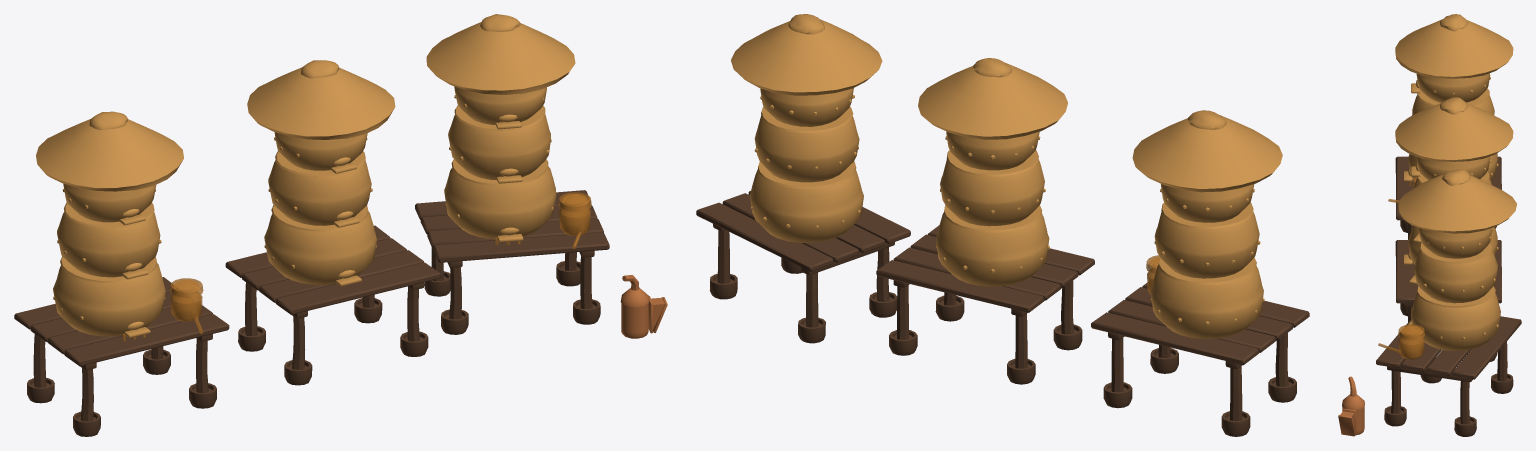
File: nomad_work_yard_decor.fbx
3 renders of one model, left to right at view 1: azimuth 30°, elevation 25°; view 2: azimuth 150°, elevation 25°; view 3: azimuth 270°, elevation 25°, orthographic. The views are drawn at different scales.
Visible parts, largest first — view 1: C__InsectHive__02, C__InsectHive__03, C__InsectHive__01; view 2: C__InsectHive__03, C__InsectHive__01, C__InsectHive__02; view 3: C__InsectHive__02, C__InsectHive__03, C__InsectHive__01.
Part boxes in pixels (x1,y1,x2,y2): C__InsectHive__02: [415, 14, 667, 338]; C__InsectHive__03: [14, 111, 229, 436]; C__InsectHive__01: [225, 60, 440, 385]; C__InsectHive__03: [1091, 110, 1309, 436]; C__InsectHive__01: [876, 58, 1094, 384]; C__InsectHive__02: [696, 14, 910, 343]; C__InsectHive__02: [1338, 169, 1521, 436]; C__InsectHive__03: [1388, 14, 1513, 239]; C__InsectHive__01: [1395, 97, 1513, 361].
Bounding box in the file's own units: 702 × 345 × 248.
